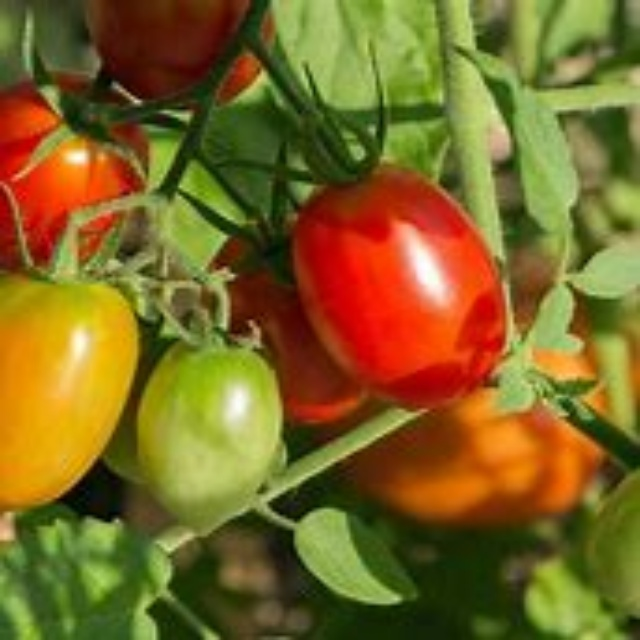tomato: (299, 174, 502, 404), (1, 262, 135, 509), (147, 334, 281, 520), (2, 79, 144, 249), (81, 3, 289, 111)
